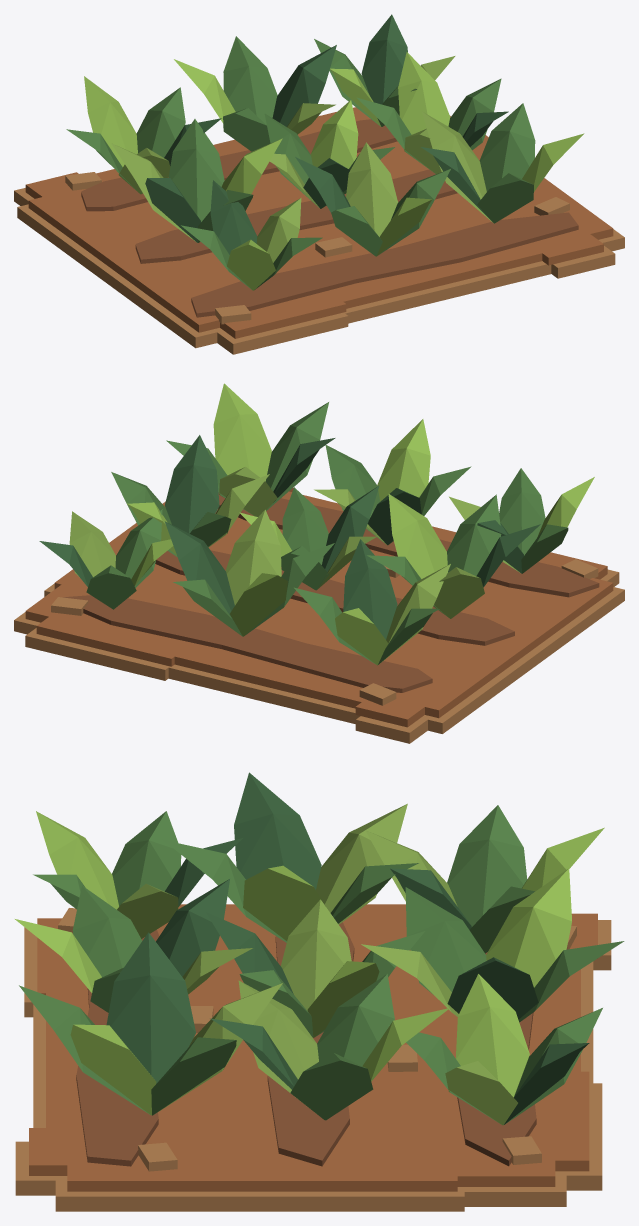
File: plot-leafy.glb
3 renders of one model, top to bottom at view 1: azimuth 30°, elevation 25°; view 2: azimuth 150°, elevation 25°; view 3: azimuth 270°, elevation 25°, orthographic. The views are drawn at different scales.
Parts seen in each view (by area): view 1: Blade; view 2: Blade; view 3: Blade.
Boxes of the visible parts, x1,y1,x2,y2 form: Blade: [14, 14, 624, 354]; Blade: [14, 383, 624, 743]; Blade: [15, 772, 624, 1211].
Size of the model in its own units: 1.77 by 0.4724 by 1.59.
